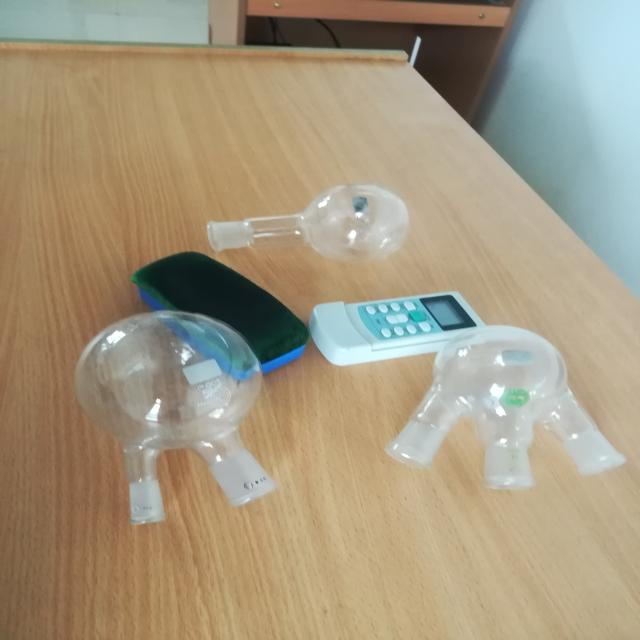Round_Bottom_Flask_Borosilicate_Glass_1_Neck: (181, 132, 437, 290)
Round_Bottom_Flask_Borosilicate_Glass_2_Neck: (48, 292, 325, 551)
Round_Bottom_Flask_Borosilicate_Glass_3_Neck: (349, 312, 640, 520)
